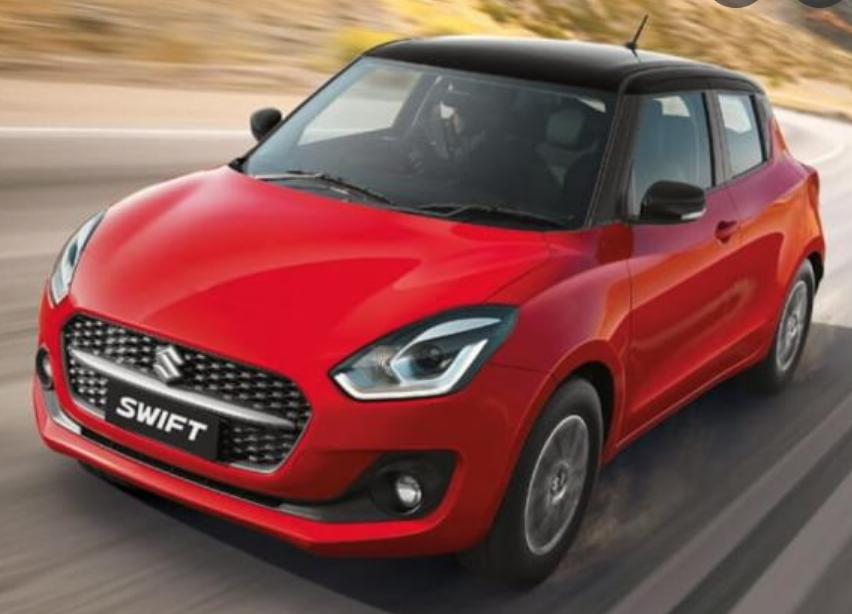car: (21, 11, 828, 587)
